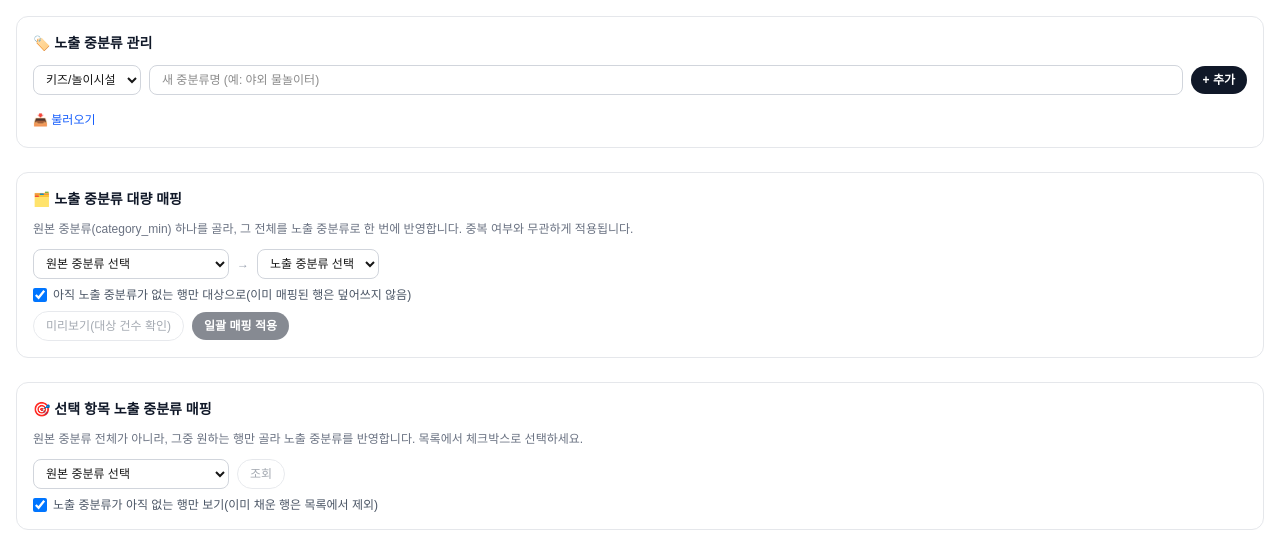
Test: CategoryMappingPanel › 새 중분류를 추가하면 목록에 즉시 반영된다
The width and height of the screenshot is (1280, 548).
Click the button "📥 불러오기" at (64, 120), box [33, 112, 96, 128]
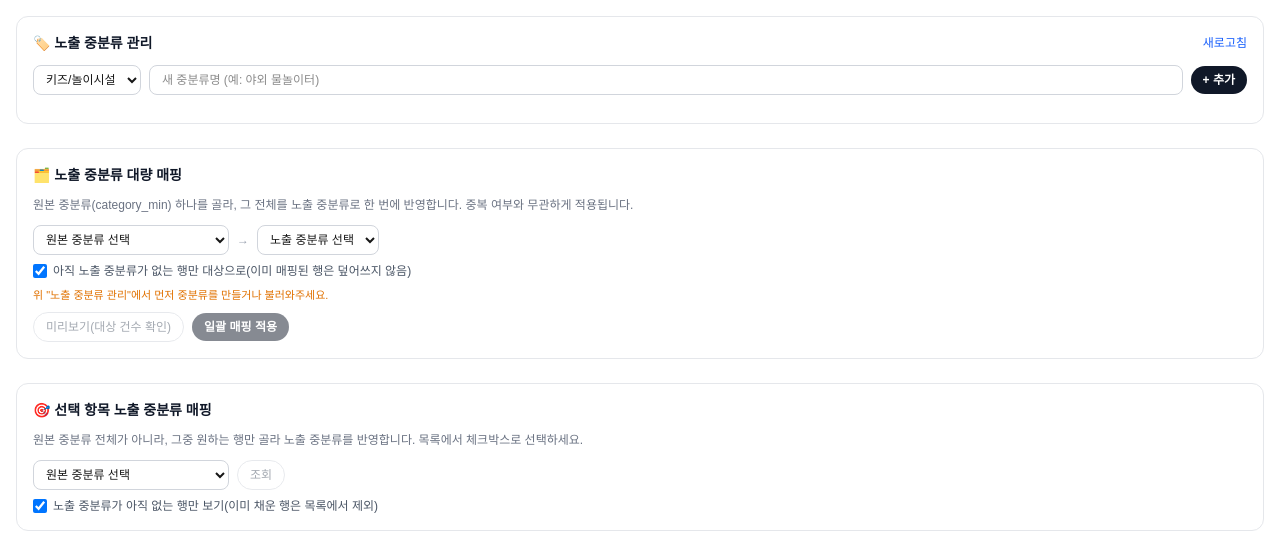
Type "야외 물놀이터" into the field with placeholder "새 중분류명 (예: 야외 물놀이터)" at (666, 80), box [149, 65, 1183, 95]
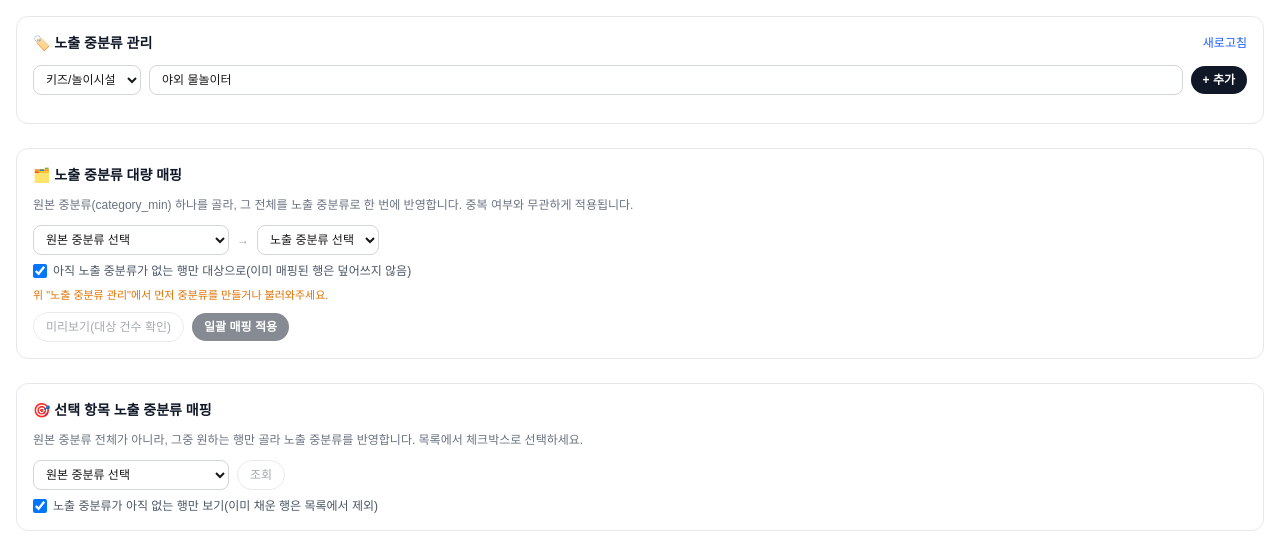
Click the button "+ 추가" at (1219, 80), box [1191, 66, 1247, 94]
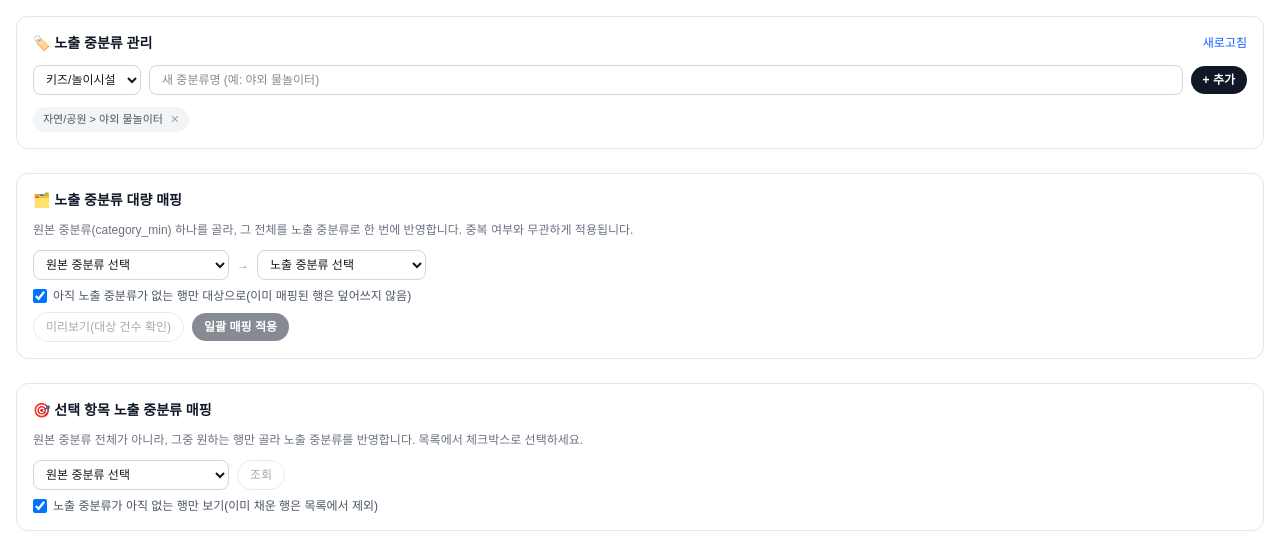
Result: the text "자연/공원 > 야외 물놀이터" is shown at [43, 111, 163, 128]
